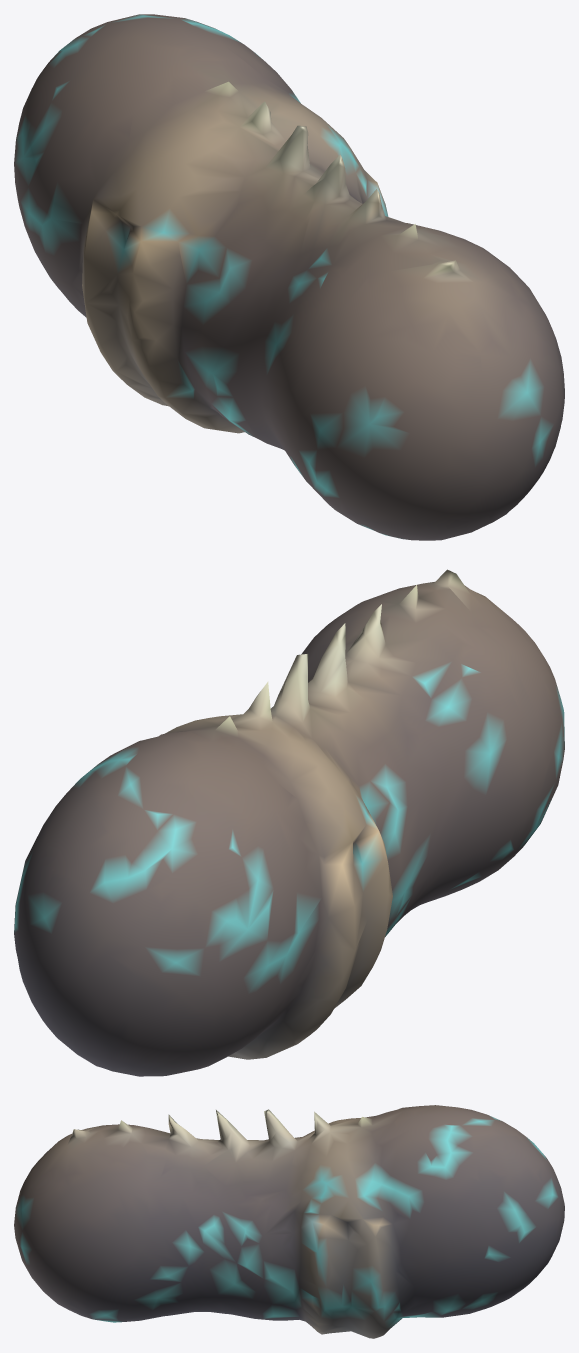
File: hound_body.glb
The picture shows the model from 3 angles, top to bottom: view 1: azimuth 30°, elevation 25°; view 2: azimuth 150°, elevation 25°; view 3: azimuth 270°, elevation 25°; orthographic projection. The views are drawn at different scales.
Parts seen in each view (by area): view 1: geometry_0; view 2: geometry_0; view 3: geometry_0.
Part boxes in pixels (bbox=[...]): geometry_0: bbox=[14, 14, 564, 540]; geometry_0: bbox=[14, 569, 564, 1076]; geometry_0: bbox=[14, 1105, 564, 1338].
Size of the model in its own units: 0.4611 by 0.5581 by 1.26.
